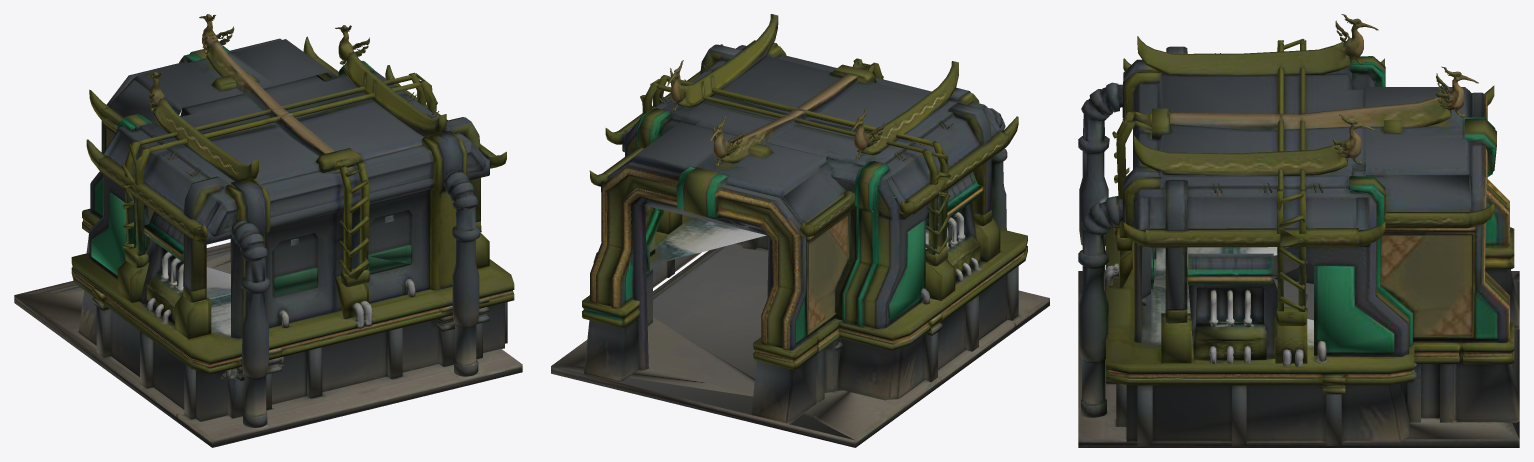
File: nmrf_war_factory.glb
The picture shows the model from 3 angles, left to right: view 1: azimuth 30°, elevation 25°; view 2: azimuth 150°, elevation 25°; view 3: azimuth 270°, elevation 25°; orthographic projection. The views are drawn at different scales.
Parts seen in each view (by area): view 1: Body, Trim; view 2: Body, Trim; view 3: Body, Trim.
Part boxes in pixels (<box>): Body: <box>14,14,522,447</box>; Trim: <box>91,46,411,275</box>; Body: <box>551,14,1049,447</box>; Trim: <box>637,108,925,326</box>; Body: <box>1078,14,1519,447</box>; Trim: <box>1189,56,1498,353</box>.
Size of the model in its own units: 15.83 by 12.59 by 16.54.
2 materials, 2 textured.
